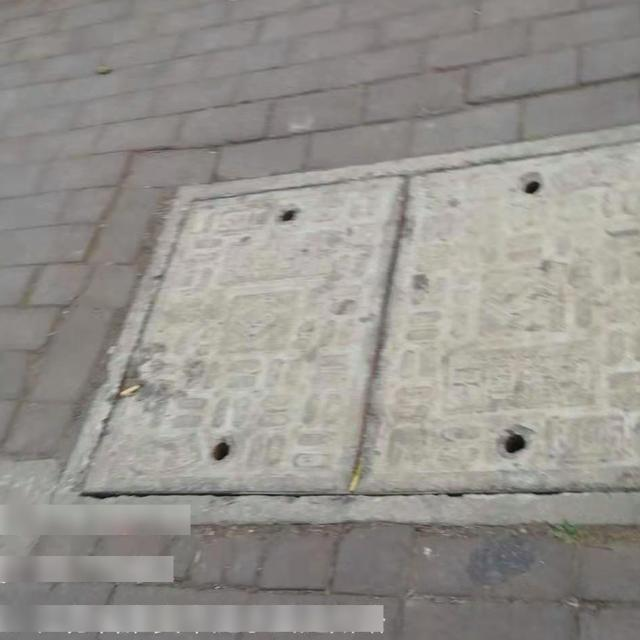good: (52, 117, 640, 525)
